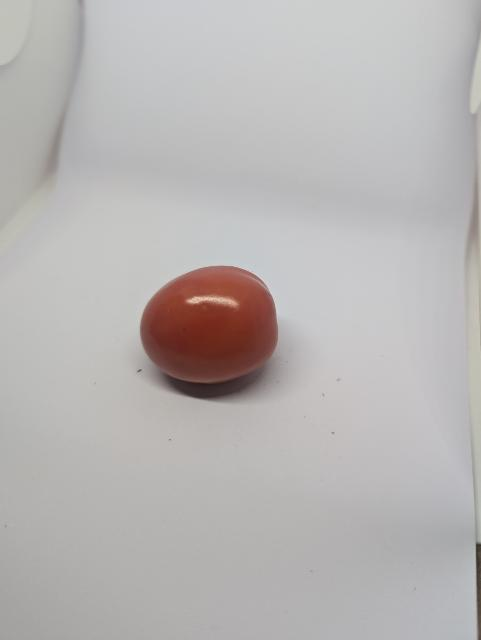red: (137, 261, 289, 399)
